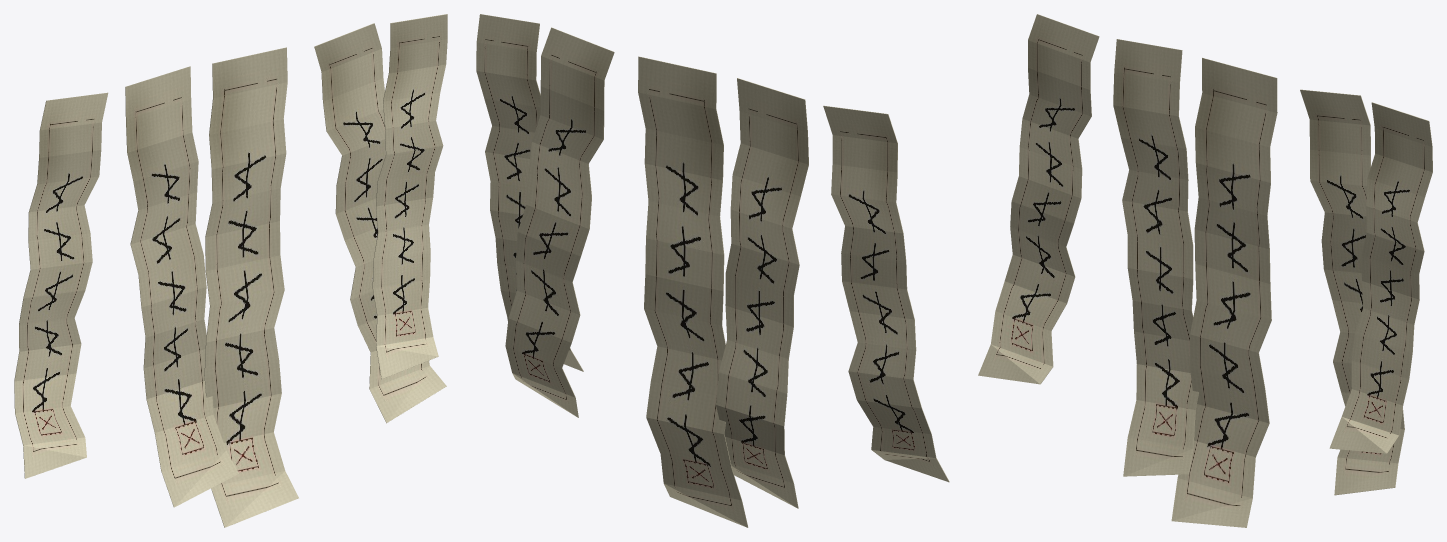
Rendered from ofuda_seal_cluster.glb.
The picture shows the model from 3 angles, left to right: view 1: azimuth 30°, elevation 25°; view 2: azimuth 150°, elevation 25°; view 3: azimuth 330°, elevation 25°; orthographic projection. The views are drawn at different scales.
Parts seen in each view (by area): view 1: original_fictional_ofuda_paper_surface; view 2: original_fictional_ofuda_paper_surface; view 3: original_fictional_ofuda_paper_surface.
Boxes of the visible parts, x1=… form: original_fictional_ofuda_paper_surface: x1=14, y1=14, x2=447, y2=527; original_fictional_ofuda_paper_surface: x1=476, y1=14, x2=949, y2=527; original_fictional_ofuda_paper_surface: x1=978, y1=14, x2=1432, y2=527.
Size of the model in its own units: 0.6101 by 0.6005 by 0.0588.
1 material, 1 textured.
